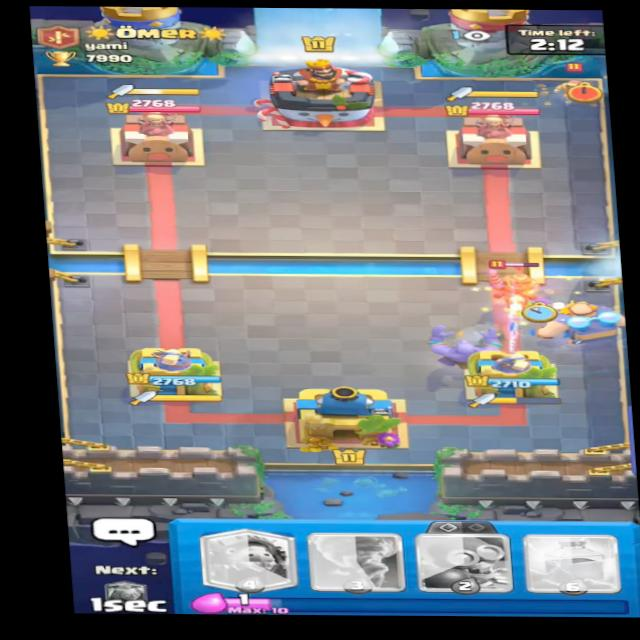prince: (480, 257, 549, 318)
wizard: (550, 62, 602, 103)
